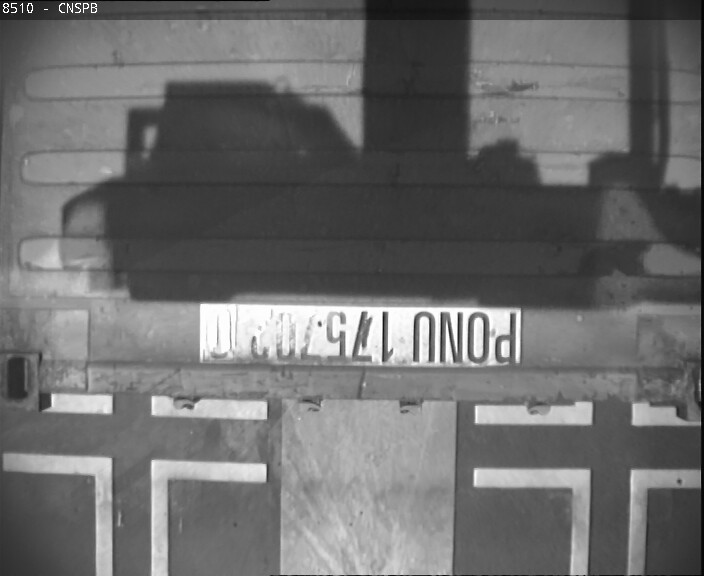groundmarker_1: (2, 454, 264, 573), (472, 466, 704, 576)
